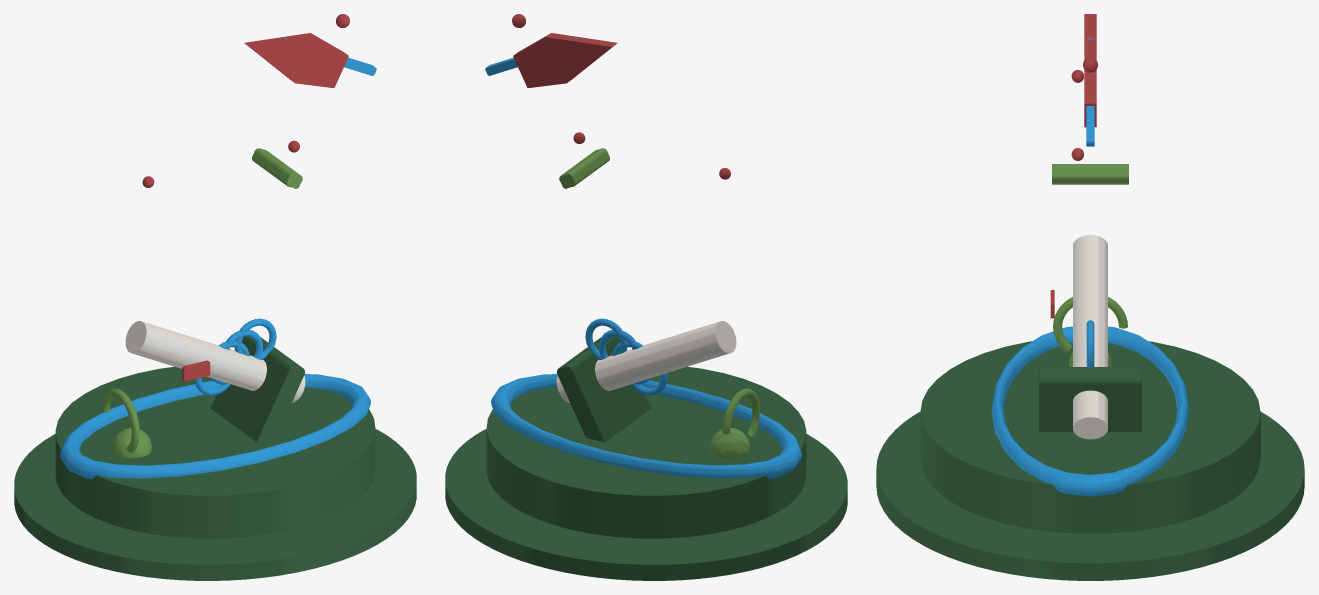
The model's file is 0200_生活中的物理图鉴_弹簧.glb.
3 views of the same model, side by side, from view 1: azimuth 30°, elevation 25°; view 2: azimuth 150°, elevation 25°; view 3: azimuth 270°, elevation 25° (orthographic). The views are drawn at different scales.
Visible parts, largest first — view 1: card_0200; view 2: card_0200; view 3: card_0200.
Part boxes in pixels (x1,y1,x2,y2): card_0200: [14, 14, 416, 580]; card_0200: [445, 14, 847, 580]; card_0200: [876, 14, 1304, 580].
Size of the model in its own units: 0.8039 by 1 by 0.7696.
